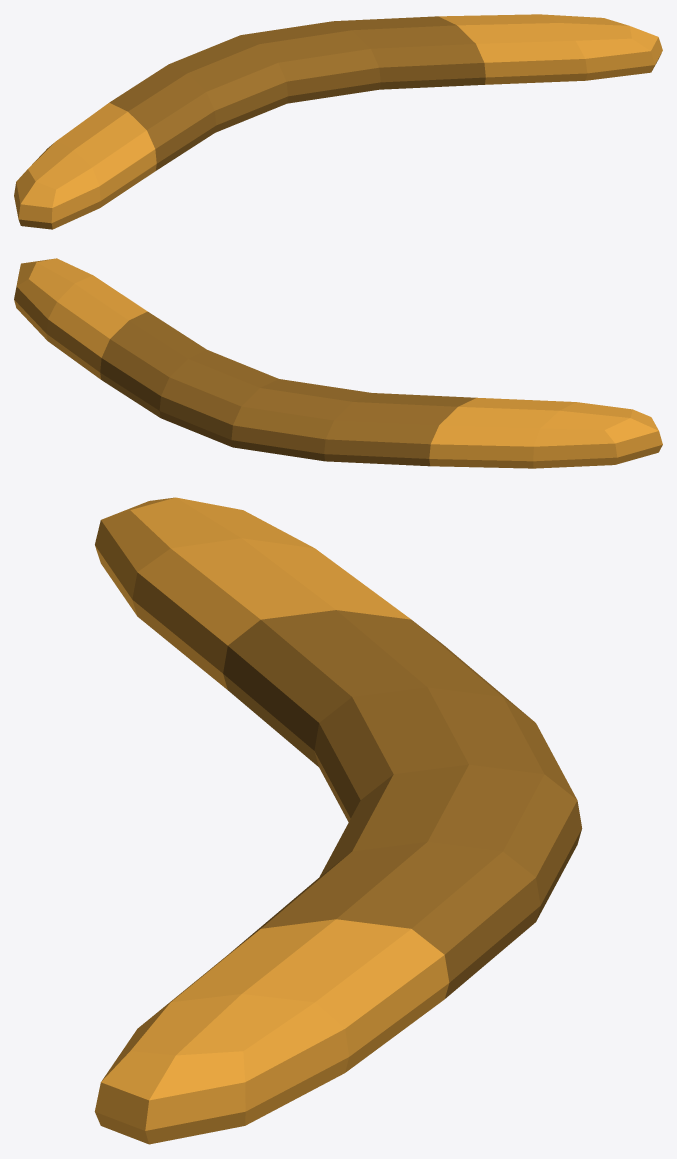
The model's file is Boomerang.fbx.
The picture shows the model from 3 angles, top to bottom: view 1: azimuth 30°, elevation 25°; view 2: azimuth 150°, elevation 25°; view 3: azimuth 270°, elevation 25°; orthographic projection. The views are drawn at different scales.
Parts seen in each view (by area): view 1: Cube; view 2: Cube; view 3: Cube.
Boxes of the visible parts, bbox=[...] form: Cube: bbox=[14, 14, 662, 229]; Cube: bbox=[14, 258, 662, 468]; Cube: bbox=[94, 497, 582, 1144].
Bounding box in the file's own units: 196 × 15.15 × 64.13.
